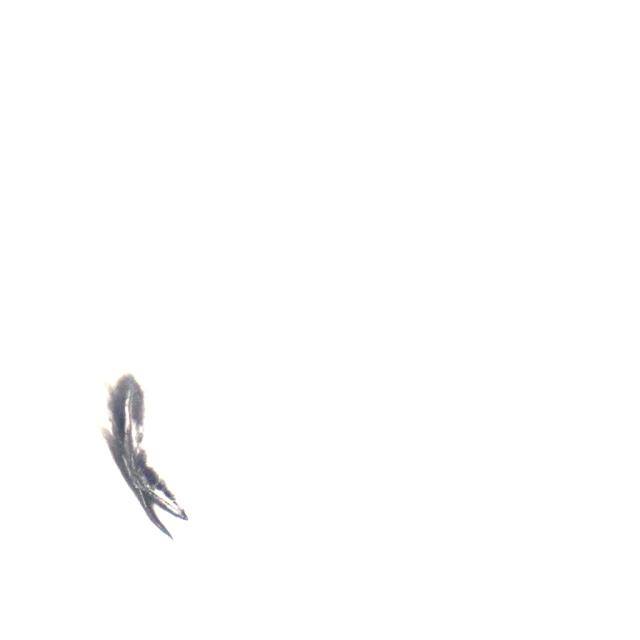crack: (96, 362, 202, 544)
